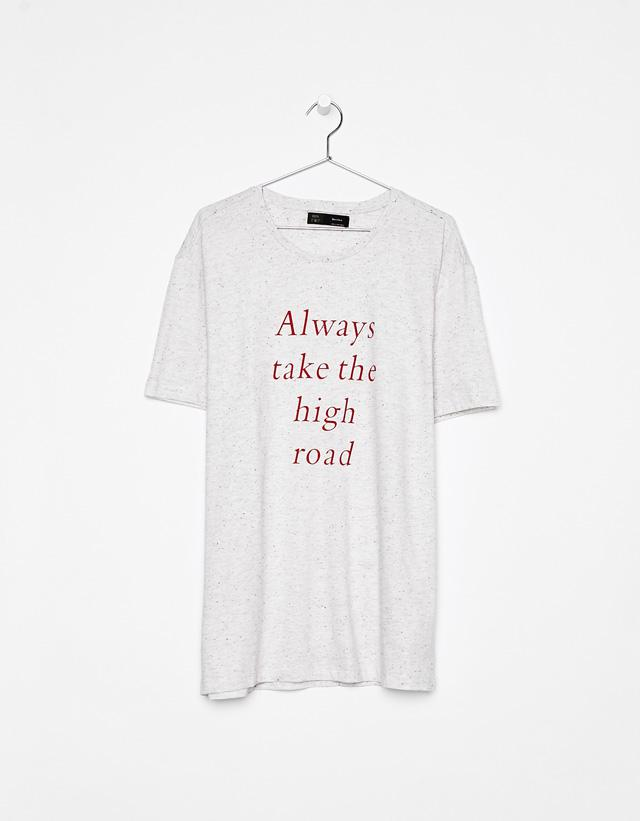teeshirt: (124, 182, 500, 745)
